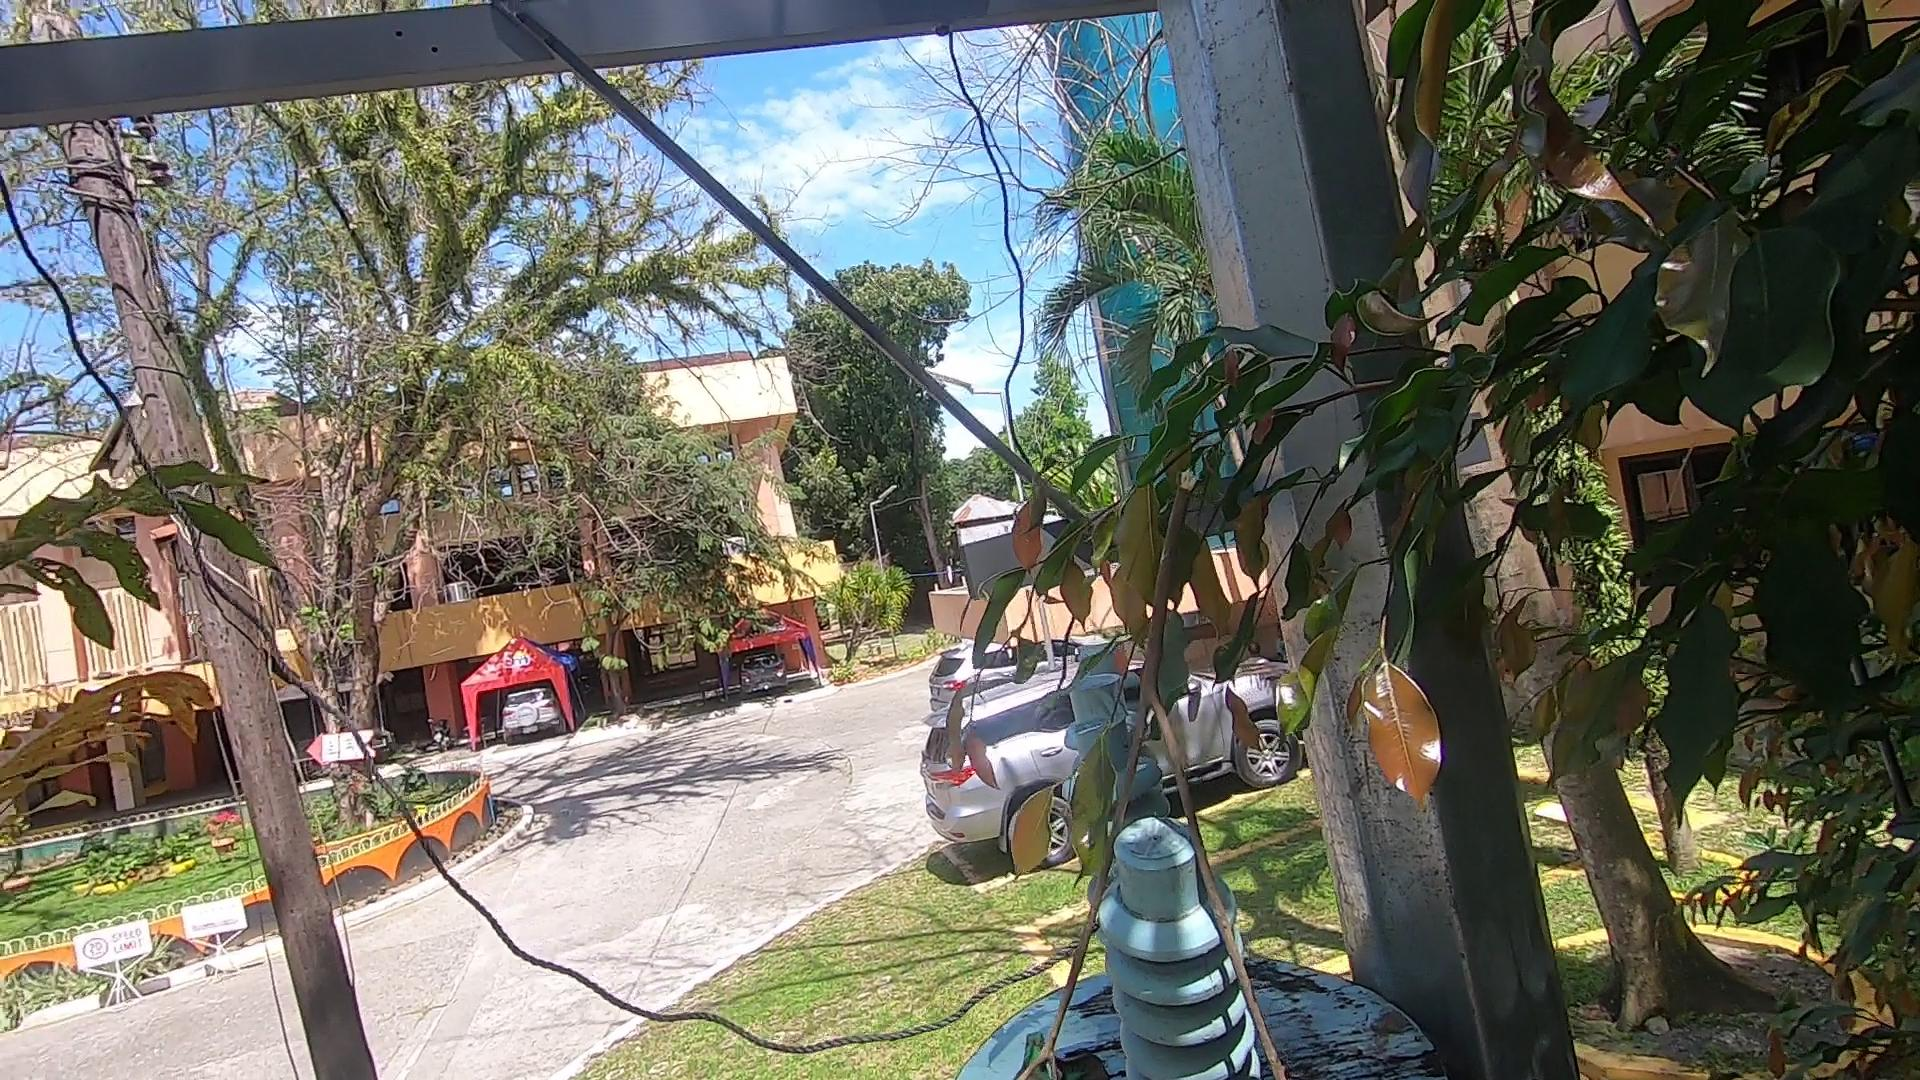leaf: (1067, 1058, 1113, 1080)
tree branch: (1010, 430, 1279, 1080)
